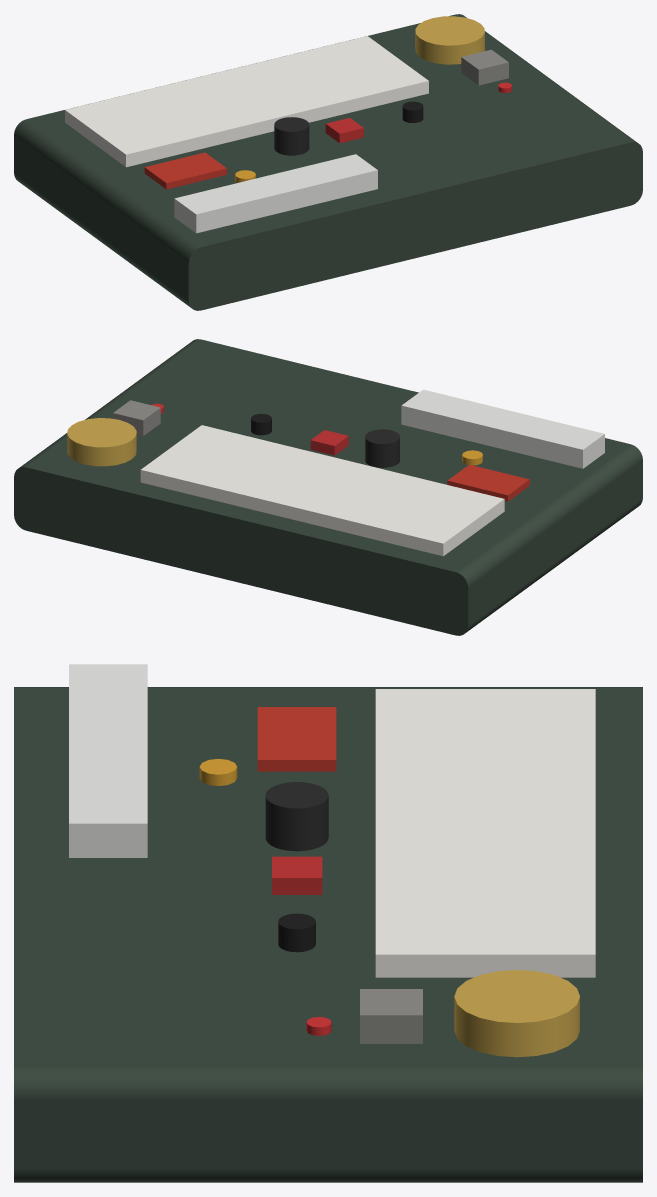
File: breadboard_trainer.glb
The picture shows the model from 3 angles, top to bottom: view 1: azimuth 30°, elevation 25°; view 2: azimuth 150°, elevation 25°; view 3: azimuth 270°, elevation 25°; orthographic projection. The views are drawn at different scales.
Parts seen in each view (by area): view 1: body, solderless_breadboard, logic_switches, power_terminals, seven_segment_display, power_switch, clock_selector, pulse_button, clock_output_jack; view 2: body, solderless_breadboard, logic_switches, power_terminals, seven_segment_display, clock_selector, power_switch, pulse_button; view 3: body, solderless_breadboard, logic_switches, power_terminals, seven_segment_display, clock_selector, power_switch, pulse_button, clock_output_jack, led_indicators.
Part boxes in pixels (x1,y1,x2,y2): body: [14, 14, 642, 310]; solderless_breadboard: [65, 36, 428, 167]; logic_switches: [174, 154, 377, 233]; power_terminals: [415, 16, 484, 64]; seven_segment_display: [144, 152, 226, 189]; power_switch: [461, 49, 508, 85]; clock_selector: [274, 117, 309, 155]; pulse_button: [325, 118, 363, 143]; clock_output_jack: [402, 101, 423, 122]; body: [14, 339, 642, 635]; solderless_breadboard: [140, 425, 504, 556]; logic_switches: [401, 389, 604, 468]; power_terminals: [67, 418, 136, 466]; seven_segment_display: [447, 464, 529, 501]; clock_selector: [365, 429, 399, 467]; power_switch: [113, 400, 160, 435]; pulse_button: [310, 430, 348, 455]; body: [14, 687, 642, 1182]; solderless_breadboard: [375, 689, 595, 977]; logic_switches: [69, 664, 147, 857]; power_terminals: [454, 970, 579, 1057]; seven_segment_display: [257, 707, 336, 771]; clock_selector: [265, 782, 328, 851]; power_switch: [360, 989, 422, 1043]; pulse_button: [272, 856, 322, 894]; clock_output_jack: [278, 913, 315, 952]; led_indicators: [199, 758, 237, 785].
Size of the model in its own units: 0.3 by 0.055 by 0.2.
